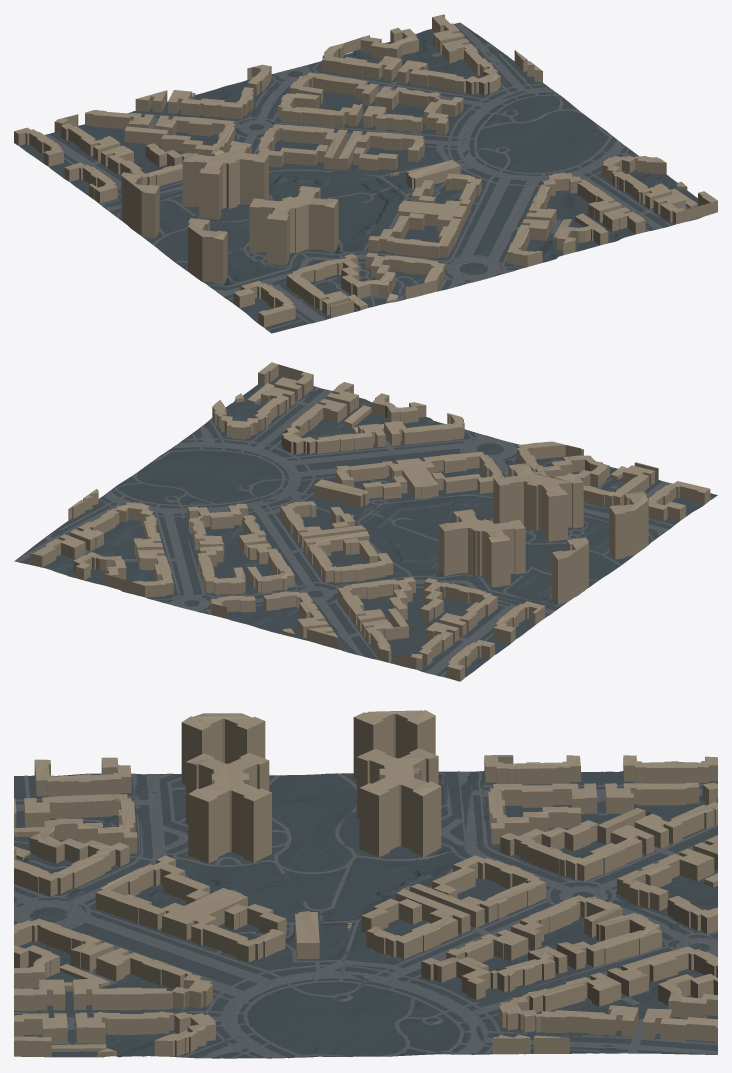
The model's file is epsg26910-1421-10871.lod0.glb.
3 renders of one model, top to bottom at view 1: azimuth 30°, elevation 25°; view 2: azimuth 150°, elevation 25°; view 3: azimuth 270°, elevation 25°, orthographic. The views are drawn at different scales.
Visible parts, largest first — view 1: epsg26910-1421-10871-lod0; view 2: epsg26910-1421-10871-lod0; view 3: epsg26910-1421-10871-lod0.
Boxes of the visible parts, bbox=[...] form: epsg26910-1421-10871-lod0: bbox=[14, 14, 717, 333]; epsg26910-1421-10871-lod0: bbox=[14, 362, 717, 681]; epsg26910-1421-10871-lod0: bbox=[14, 710, 717, 1058].
Bounding box in the file's own units: 384 × 42.89 × 384.
